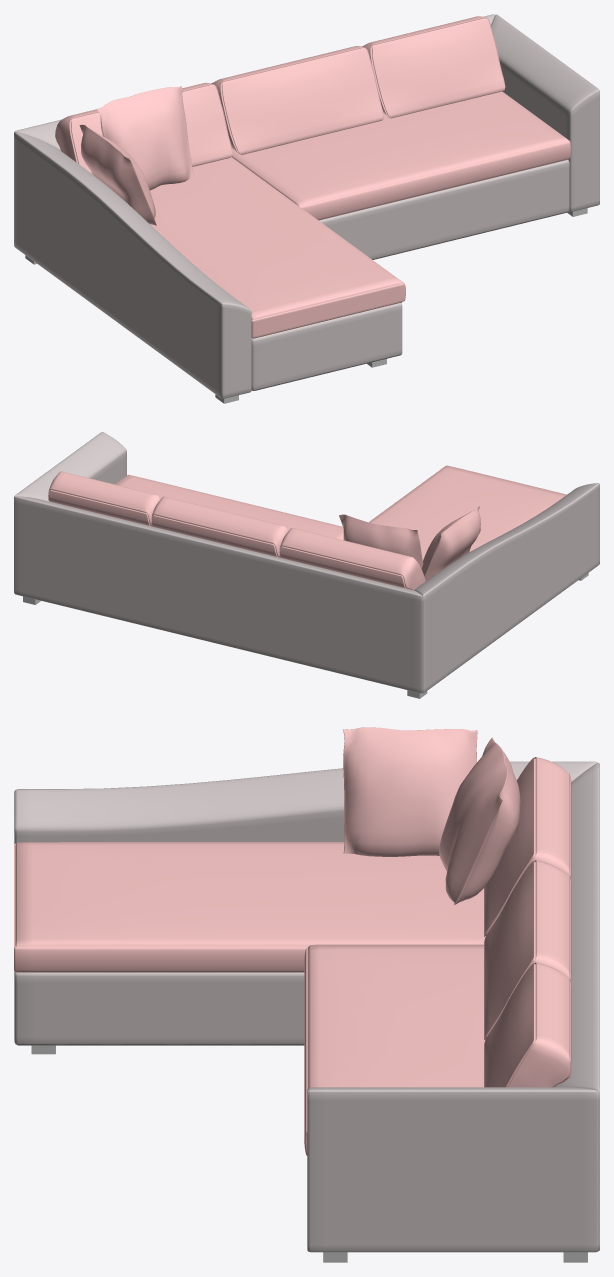
File: sofa.fbx
The picture shows the model from 3 angles, top to bottom: view 1: azimuth 30°, elevation 25°; view 2: azimuth 150°, elevation 25°; view 3: azimuth 270°, elevation 25°; orthographic projection. The views are drawn at different scales.
Parts seen in each view (by area): view 1: Object08, Object14, Object09, Object15, Object1, Object16, Object03, Object06, Plane05, Object13, Plane04, Object07; view 2: Object07, Object08, Object14, Object13, Object15, Object16, Object09, Object03, Plane04, Plane05; view 3: Object14, Object03, Object09, Object06, Object08, Plane04, Object07, Object15, Object16, Plane05, Object13, Leg.
Boxes of the visible parts, x1,y1,x2,y2 form: Object08: (14,132,251,398); Object14: (150,157,405,338); Object09: (232,91,570,220); Object15: (212,46,383,154); Object1: (319,160,569,259); Object16: (362,16,505,118); Object03: (491,14,599,211); Object06: (251,302,402,390); Plane05: (97,86,193,190); Object13: (55,82,232,173); Plane04: (79,124,156,225); Object07: (15,14,495,150); Object07: (14,496,422,693); Object08: (414,483,599,693); Object14: (369,465,566,560); Object13: (279,528,425,590); Object15: (151,496,288,557); Object16: (48,471,161,526); Object09: (115,474,343,540); Object03: (14,432,126,592); Plane04: (421,506,480,580); Plane05: (339,514,423,568); Object14: (14,842,485,972); Object03: (307,1087,598,1252); Object09: (304,944,485,1155); Object06: (14,972,304,1045); Object08: (14,761,597,843); Plane04: (343,727,477,856); Object07: (553,763,599,1250); Object15: (484,860,571,1039); Object16: (484,962,571,1087); Plane05: (439,737,520,904); Object13: (484,757,571,936); Leg: (31,1045,587,1262).
Size of the model in its own units: 244 by 80.24 by 183.
